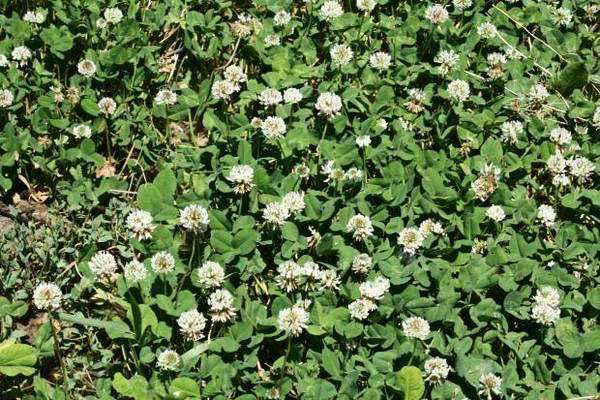clover: (1, 8, 600, 400)
